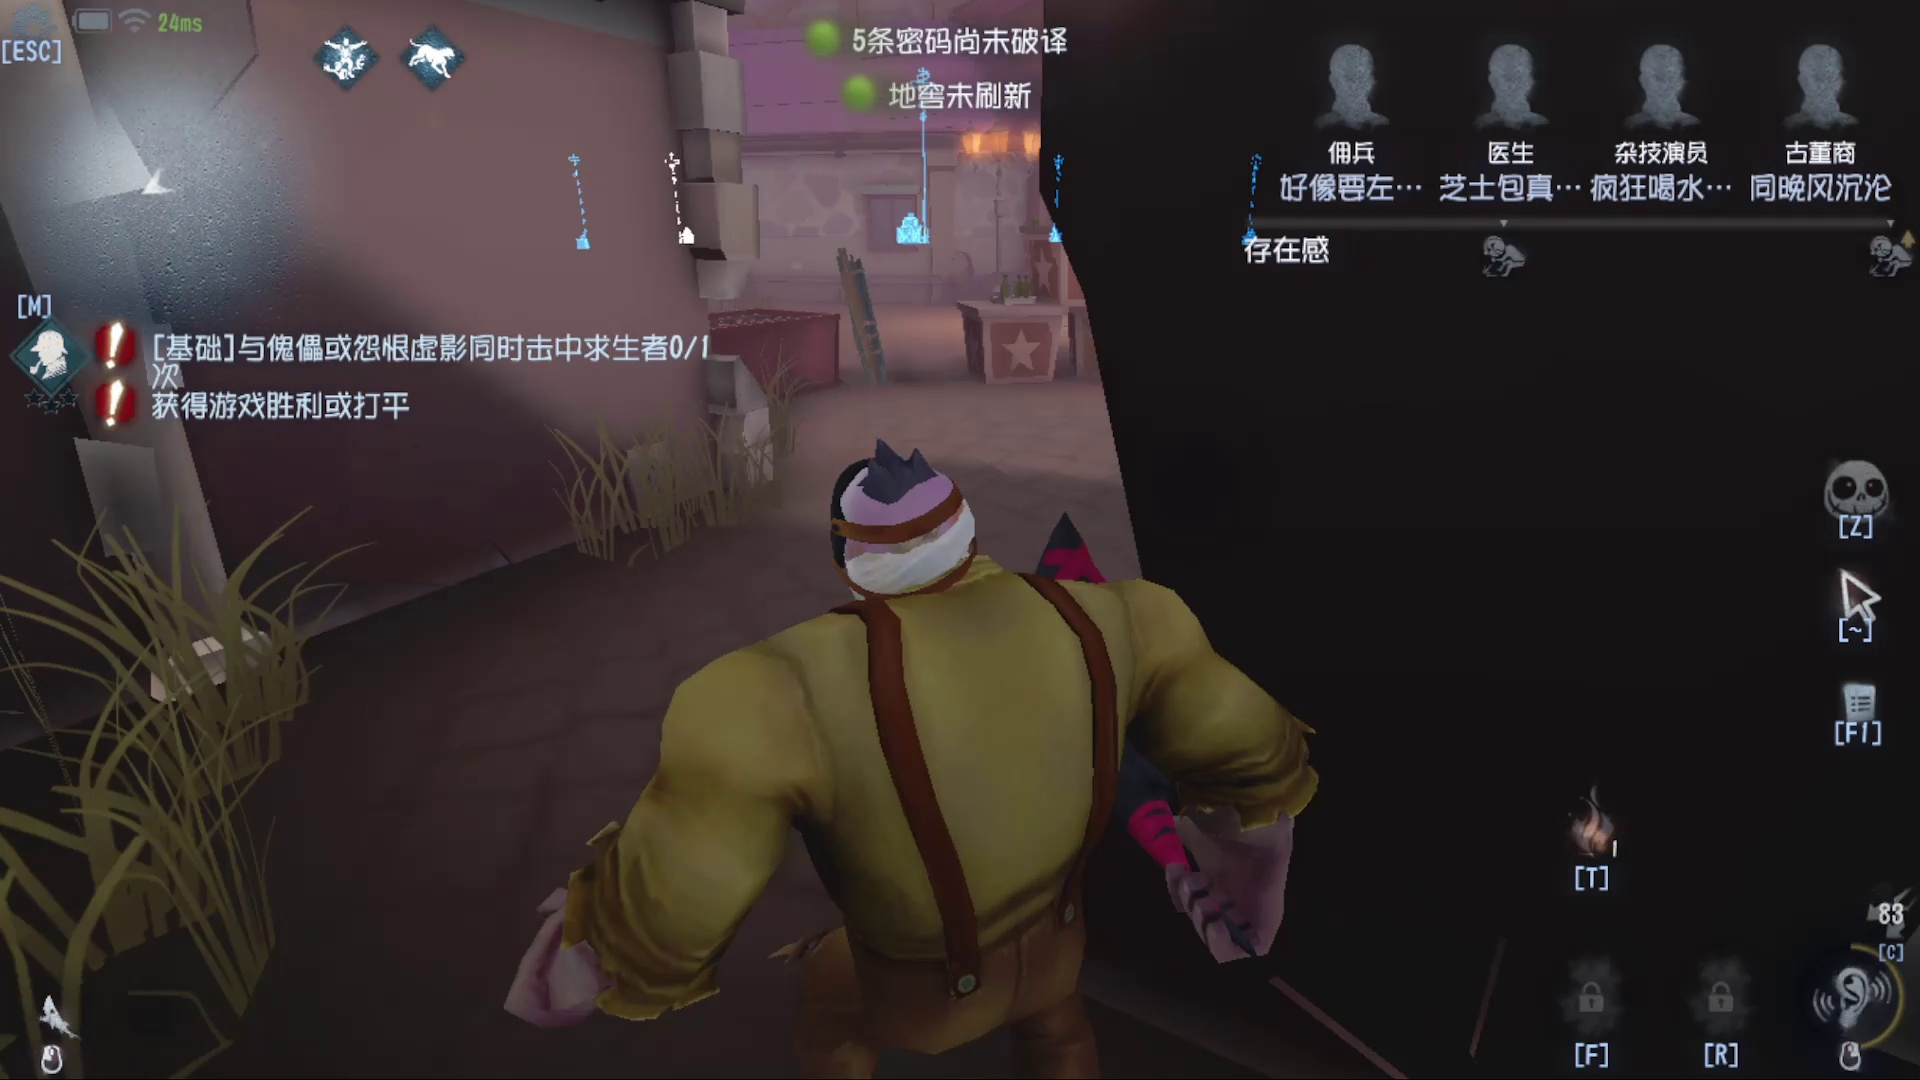密码机: (891, 58, 952, 264), (547, 127, 607, 266), (646, 136, 705, 265), (1224, 146, 1276, 269), (1033, 142, 1079, 251)
木板: (825, 239, 907, 397)
